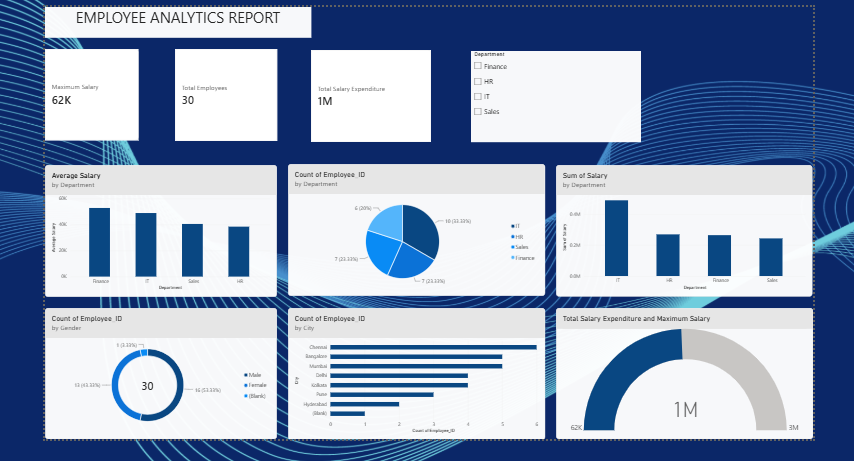

The page's visual inventory and layout, read from the dashboard file:
{"tool":"powerbi","page":{"name":"Page 1","canvas":[1920,1080],"ordinal":0},"visuals":[{"type":"clusteredColumnChart","fields":{"Category":["Employee_Data.Department"],"Y":["Employee_Data.Average Salary"]},"box":[0,395,580,330],"z":0},{"type":"clusteredBarChart","fields":{"Category":["Employee_Data.City"],"Y":["Count(Employee_Data.Employee_ID)"]},"box":[607.5,752.5,642.5,330],"z":1000},{"type":"donutChart","fields":{"Category":["Employee_Data.Gender"],"Y":["CountNonNull(Employee_Data.Employee_ID)"]},"box":[0,752.5,580,327.5],"z":2000},{"type":"clusteredColumnChart","fields":{"Category":["Employee_Data.Department"],"Y":["Sum(Employee_Data.Salary)"]},"box":[1278.6,395.7,641.4,328.6],"z":3000},{"type":"cardVisual","fields":{"Data":["Employee_Data.Maximum Salary"]},"box":[0,105,234.3,228.6],"z":4000},{"type":"cardVisual","fields":{"Data":["Employee_Data.Total Employees"]},"box":[325,105,255.7,230],"z":6000},{"type":"cardVisual","fields":{"Data":["Employee_Data.Total Salary Expenditure"]},"box":[665,107.5,300,230],"z":7000},{"type":"pieChart","fields":{"Category":["Employee_Data.Department"],"Y":["Count(Employee_Data.Employee_ID)"]},"box":[607.5,392.5,642.5,330],"z":8000},{"type":"textbox","box":[0,0,665.7,77.1],"z":9000},{"type":"slicer","fields":{"Values":["Employee_Data.Department"]},"box":[1065,110,425,227.5],"z":9001},{"type":"gauge","fields":{"MinValue":["Employee_Data.Maximum Salary"],"Y":["Employee_Data.Total Salary Expenditure"]},"box":[1277.5,752.5,642.5,327.5],"z":9002}]}

Visuals, with their boxes in screenshot pixels (x1, y1, x2, y2):
clusteredColumnChart - Employee_Data.Department x Employee_Data.Average Salary: left=40, top=160, right=275, bottom=294
clusteredBarChart - Employee_Data.City x Count(Employee_Data.Employee_ID): left=286, top=305, right=547, bottom=439
donutChart - Employee_Data.Gender x CountNonNull(Employee_Data.Employee_ID): left=40, top=305, right=275, bottom=438
clusteredColumnChart - Employee_Data.Department x Sum(Employee_Data.Salary): left=558, top=160, right=819, bottom=294
cardVisual - Employee_Data.Maximum Salary: left=40, top=43, right=135, bottom=135
cardVisual - Employee_Data.Total Employees: left=172, top=43, right=275, bottom=136
cardVisual - Employee_Data.Total Salary Expenditure: left=310, top=44, right=431, bottom=137
pieChart - Employee_Data.Department x Count(Employee_Data.Employee_ID): left=286, top=159, right=547, bottom=293
textbox: left=40, top=0, right=310, bottom=31
slicer - Employee_Data.Department: left=472, top=45, right=644, bottom=137
gauge - Employee_Data.Maximum Salary x Employee_Data.Total Salary Expenditure: left=558, top=305, right=819, bottom=438
